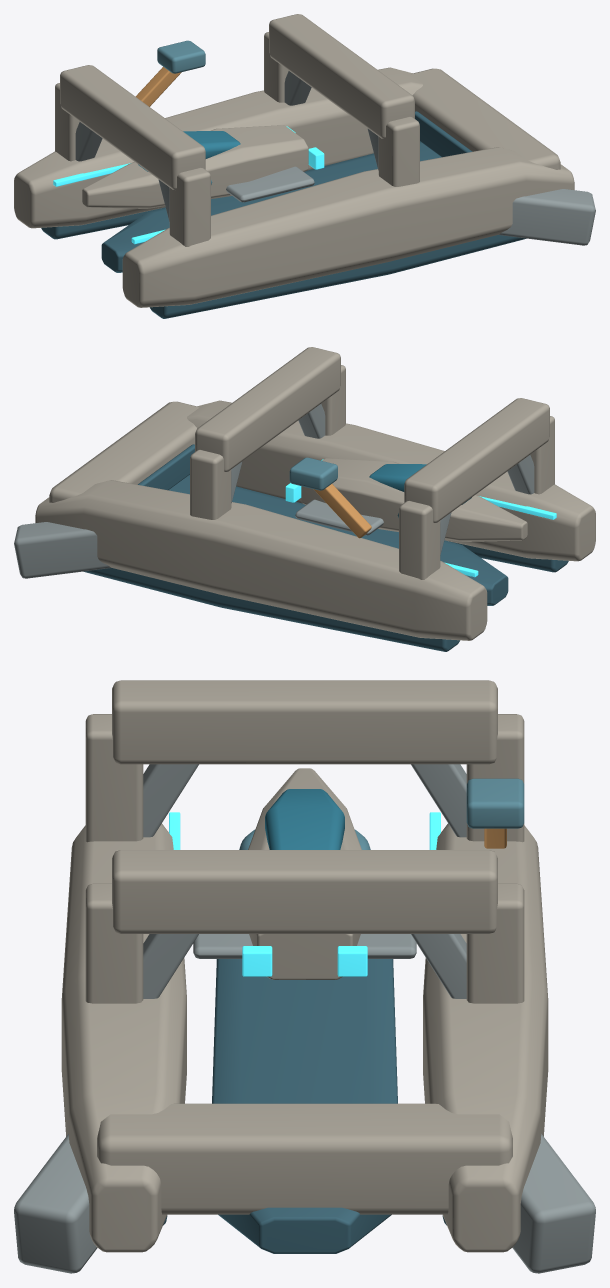
The model's file is shipyard.glb.
3 renders of one model, top to bottom at view 1: azimuth 30°, elevation 25°; view 2: azimuth 150°, elevation 25°; view 3: azimuth 270°, elevation 25°, orthographic. The views are drawn at different scales.
Parts seen in each view (by area): view 1: Ring-to-dock continuous fork, Ring-to-dock continuous fork.001, Dock armored overhead gate, Dock armored overhead gate.001, Shuttle new tapered hull, Armored dock transfer crosshead, Fork dark understructure, Dock root triangular load web, Recessed shipyard launch keel, Dock portal riser, Dock portal riser.002, Shuttle sweep wing (+10 smaller); view 2: Ring-to-dock continuous fork.001, Ring-to-dock continuous fork, Dock armored overhead gate, Dock armored overhead gate.001, Shuttle new tapered hull, Armored dock transfer crosshead, Fork dark understructure.001, Dock root triangular load web.001, Recessed shipyard launch keel, Dock portal riser.001, Dock portal riser.003, Open moving hoist (+10 smaller); view 3: Armored dock transfer crosshead, Dock armored overhead gate, Dock armored overhead gate.001, Recessed shipyard launch keel, Ring-to-dock continuous fork, Ring-to-dock continuous fork.001, Dock root triangular load web, Dock root triangular load web.001, Dock portal riser, Shuttle new tapered hull, Dock portal riser.002, Dock portal riser.003 (+11 smaller).
Boxes of the visible parts, x1,y1,x2,y2 form: Ring-to-dock continuous fork: (122, 147, 574, 307); Ring-to-dock continuous fork.001: (14, 67, 422, 228); Dock armored overhead gate: (60, 65, 205, 189); Dock armored overhead gate.001: (269, 14, 414, 138); Shuttle new tapered hull: (82, 125, 308, 208); Armored dock transfer crosshead: (410, 68, 560, 169); Fork dark understructure: (150, 235, 526, 318); Dock root triangular load web: (499, 189, 595, 245); Recessed shipyard launch keel: (101, 141, 441, 272); Dock portal riser: (169, 168, 210, 246); Dock portal riser.002: (378, 117, 419, 186); Shuttle sweep wing: (226, 166, 314, 202); Ring-to-dock continuous fork.001: (35, 480, 487, 640); Ring-to-dock continuous fork: (187, 400, 595, 561); Dock armored overhead gate: (404, 398, 549, 522); Dock armored overhead gate.001: (195, 347, 340, 471); Shuttle new tapered hull: (301, 458, 527, 541); Armored dock transfer crosshead: (49, 401, 199, 502); Fork dark understructure.001: (83, 568, 459, 651); Dock root triangular load web.001: (14, 522, 110, 578); Recessed shipyard launch keel: (168, 474, 508, 605); Dock portal riser.001: (399, 501, 440, 579); Dock portal riser.003: (190, 450, 231, 519); Open moving hoist: (289, 457, 337, 490); Armored dock transfer crosshead: (97, 1103, 512, 1214); Dock armored overhead gate: (112, 680, 497, 764); Dock armored overhead gate.001: (112, 850, 497, 933); Recessed shipyard launch keel: (212, 959, 397, 1253); Ring-to-dock continuous fork: (61, 823, 186, 1252); Ring-to-dock continuous fork.001: (423, 823, 548, 1252); Dock root triangular load web: (14, 1134, 97, 1273); Dock root triangular load web.001: (512, 1134, 595, 1273); Dock portal riser: (85, 714, 143, 842); Shuttle new tapered hull: (248, 768, 361, 979); Dock portal riser.002: (85, 883, 143, 1003); Dock portal riser.003: (466, 883, 524, 1003).
Bounding box in the file's own units: 3.4 × 1.22 × 2.32.
